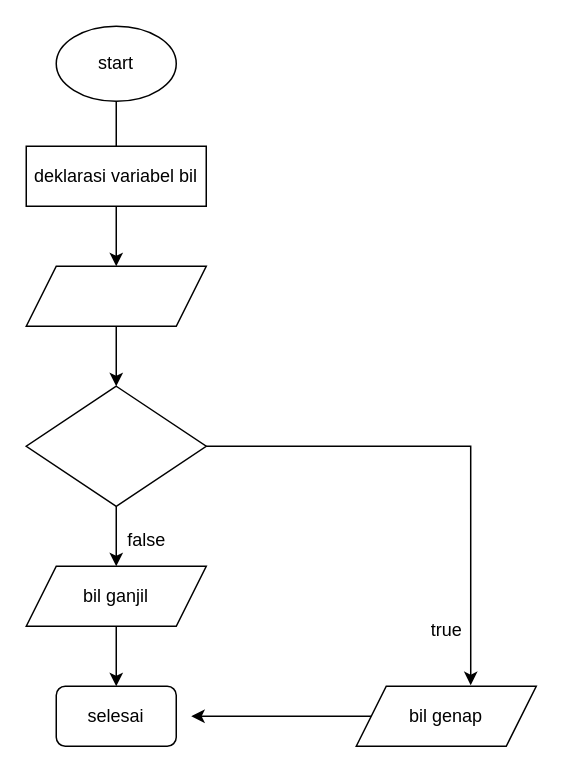
The diagram is 563 pixels wide and 773 high, and some of its shapes have lost their labels. The shapes that lost their labels are listed below. From the top down, each one's centre as x and y in pixels, then its label:
At (115,295): "masukan nilai bilangan".
At (115,445): "bil mod 12%2=0".
